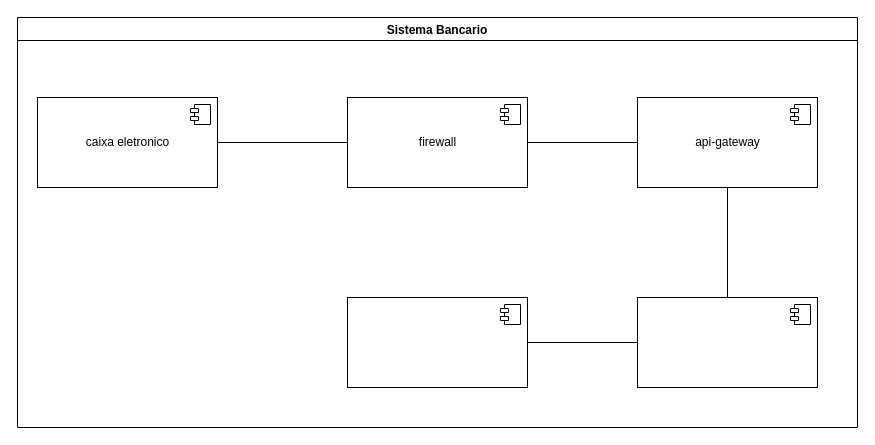
Some shapes in this 875 by 445 pixel diagram are drawn without their labels. The shapes that lost their labels are listed below. From the top down, each one's box as (x1, y1, x2, y2) in pixels, then its label:
(346, 296, 528, 388): BANCO DE DADOS
(636, 296, 818, 388): gerenciador de conta
